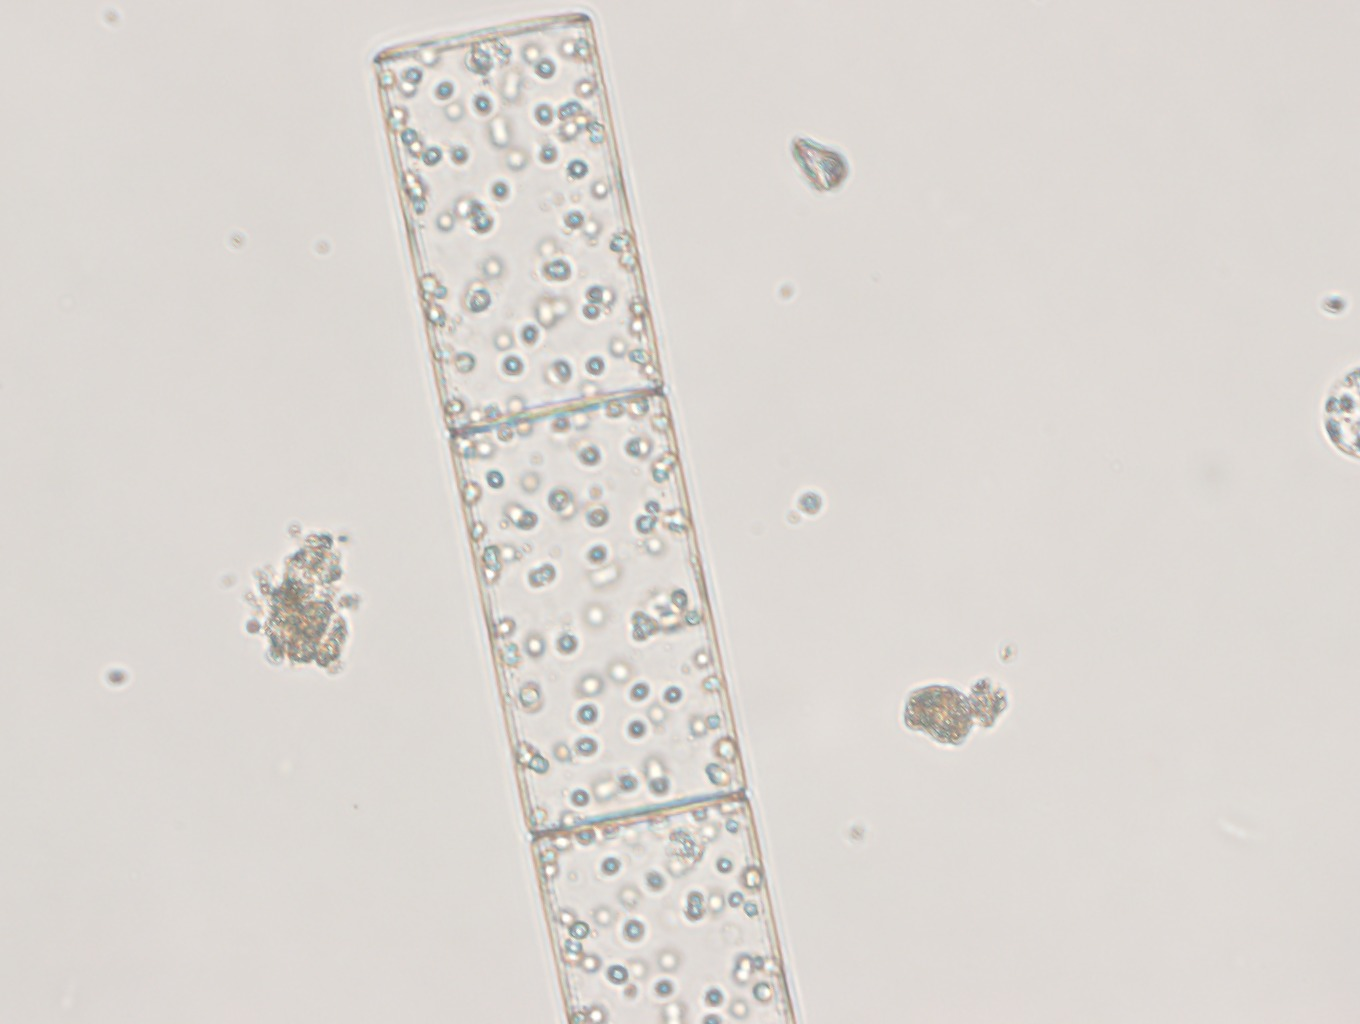guinardia flaccida: (373, 8, 802, 1024)
